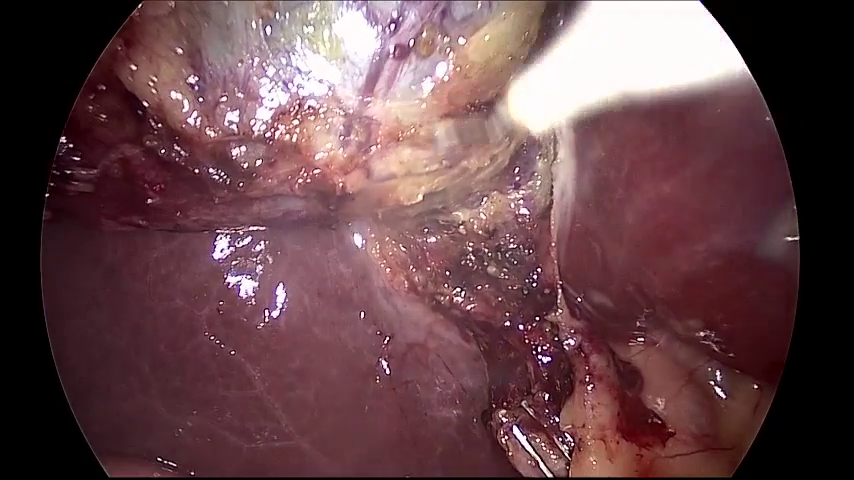lhook: (456, 1, 748, 145)
